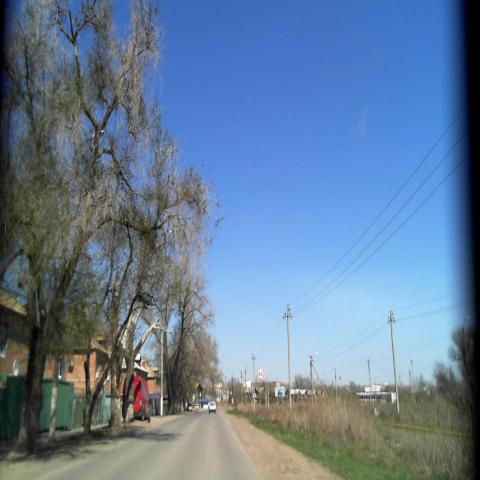3_24: (256, 363, 266, 381)
